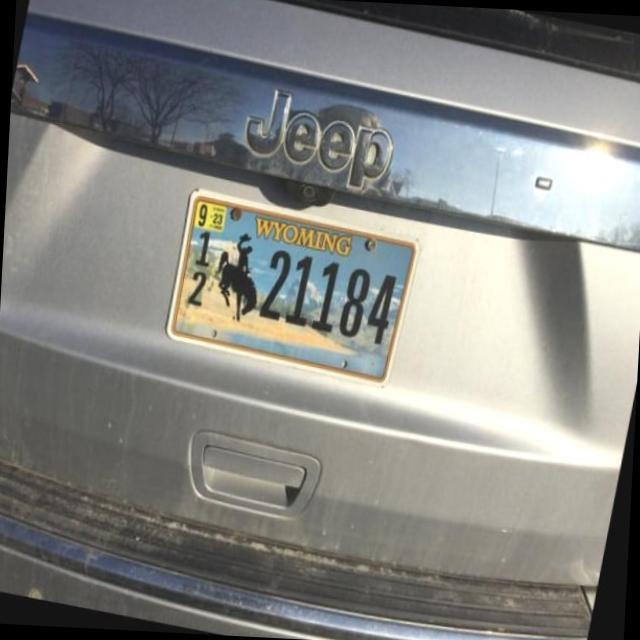LicensePlate: (164, 188, 423, 390)
